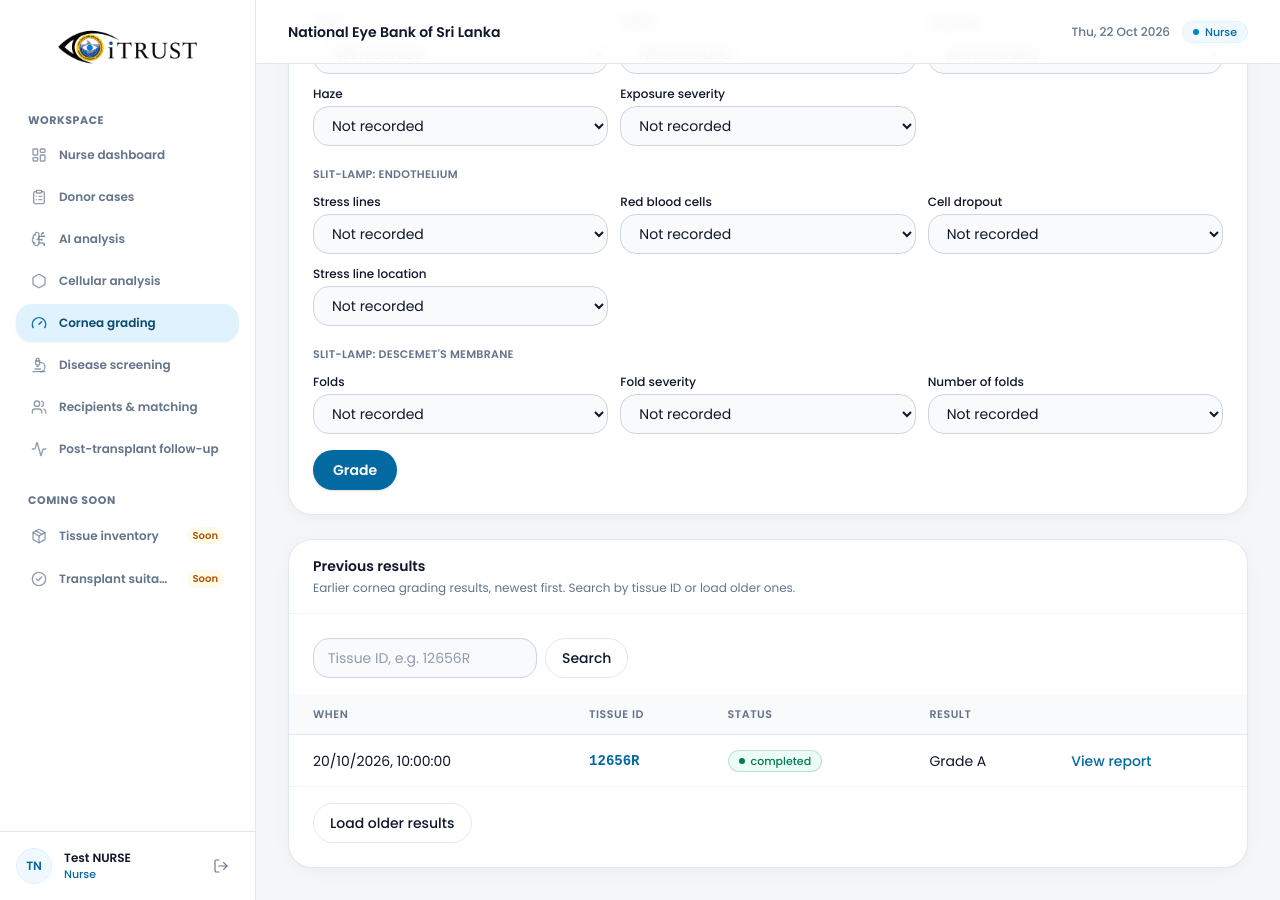
it: Previous results on a module page › lists earlier results, loads older ones and searches by tissue ID
(page scrolled)
Expected: the link "12656R" is shown, [589,753,640,769]
Expected: the text "Grade A" is shown, [913,735,1055,787]
Click the button "Load older results" at (392, 823), box [313,803,472,843]
(page scrolled)
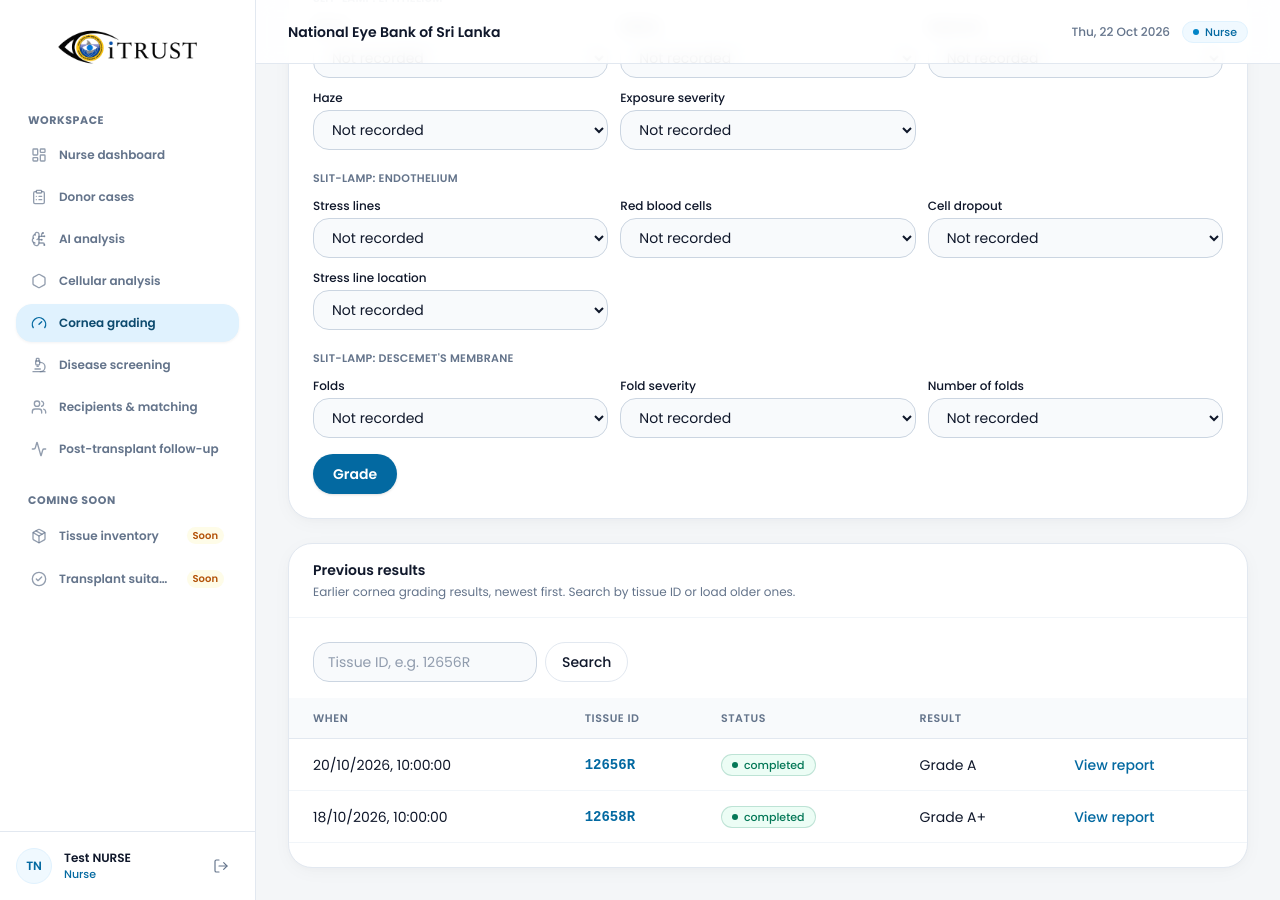
Now the link "12658R" is shown, box [585,809,635,825]
Now the button "Load older results" is gone
Type " 12657l " into the field named "Search by tissue ID" at (425, 662), box [313,642,537,682]
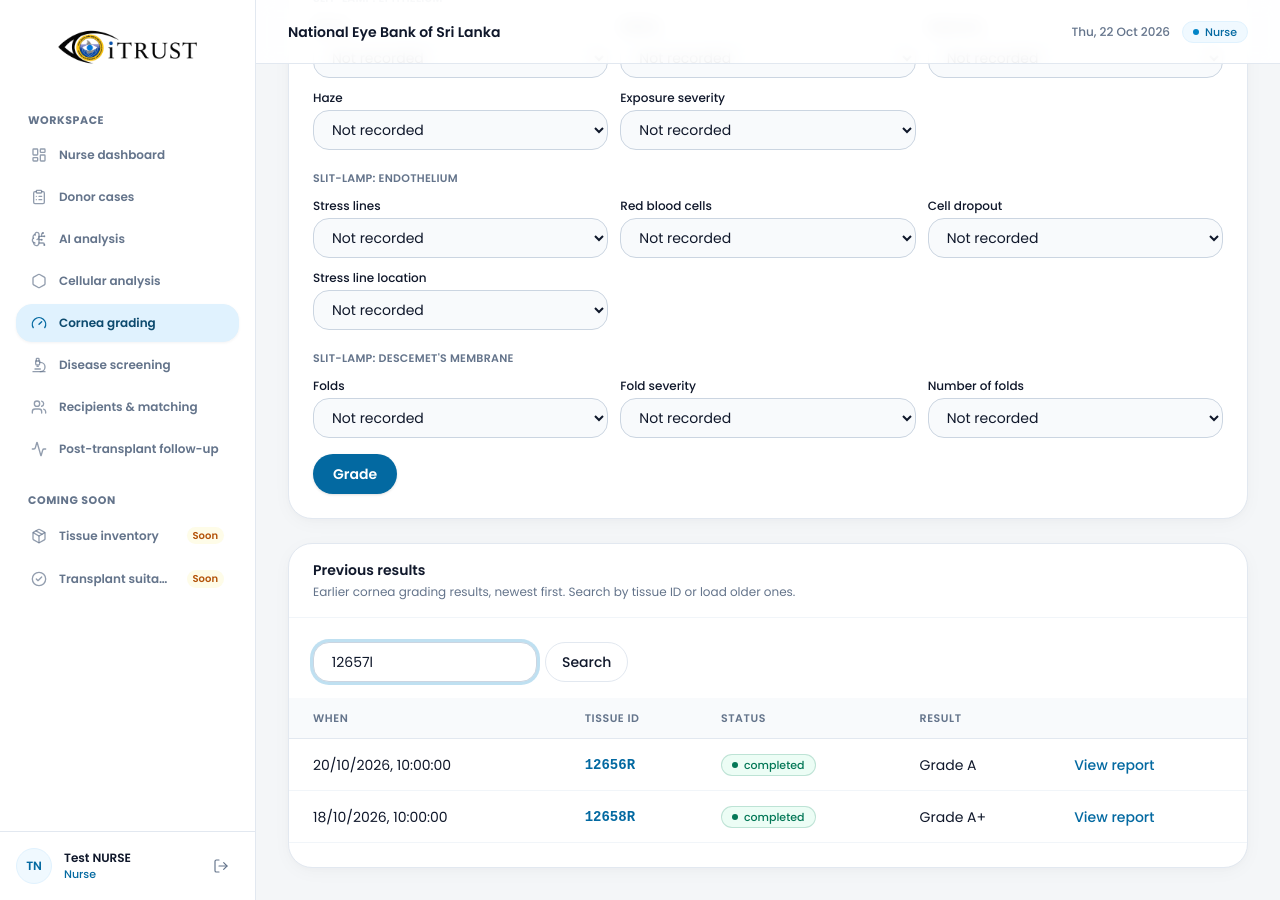
Click the button "Search" at (587, 662), box [545,642,628,682]
(page scrolled)
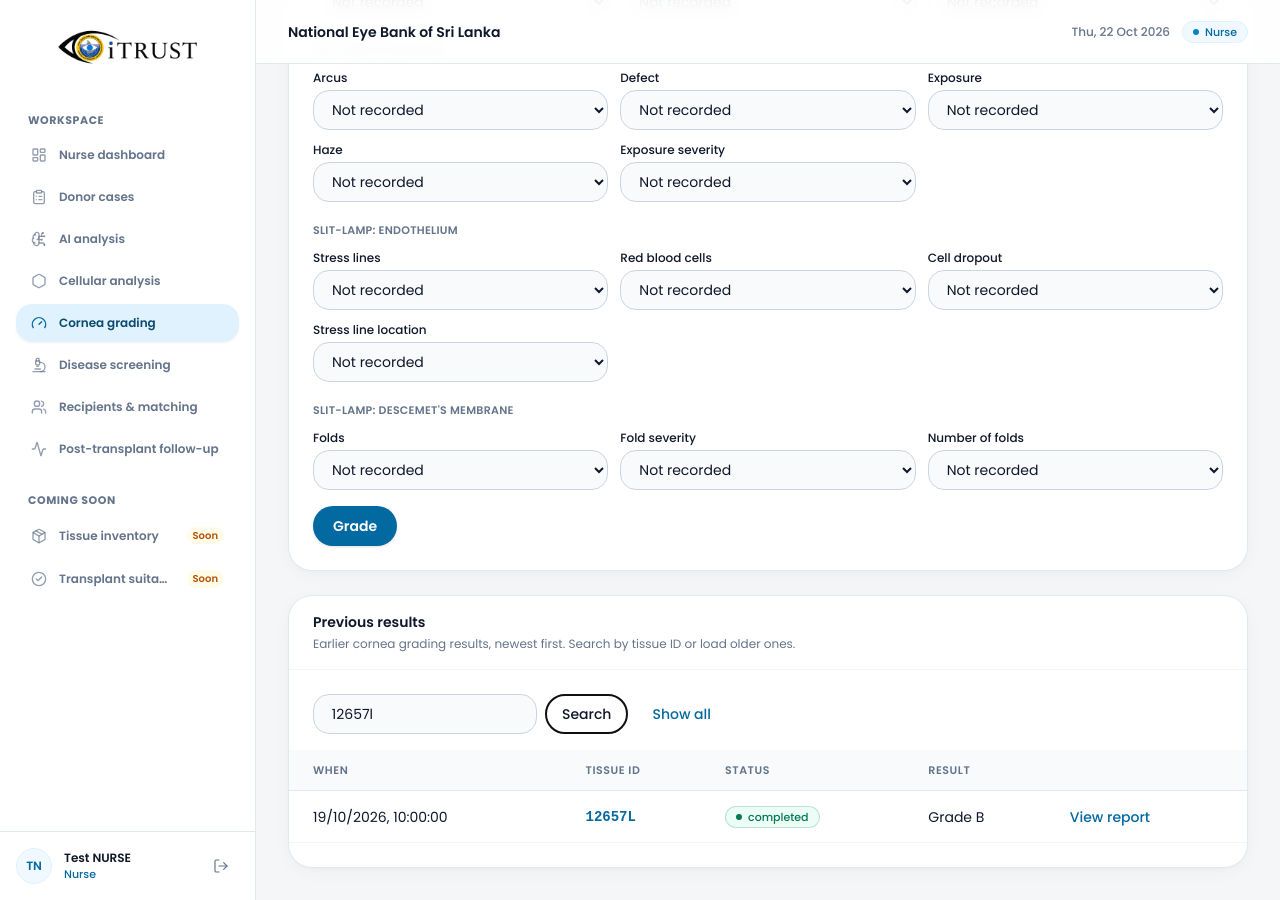
Now the link "12657L" is shown, box [586,809,636,825]
Now the link "12656R" is gone
